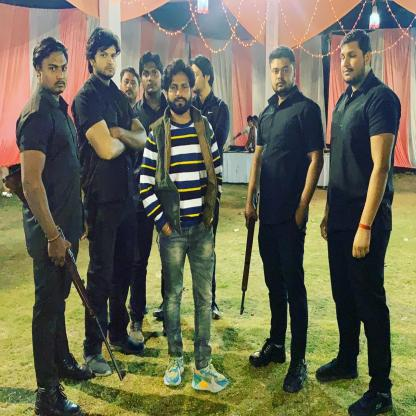rifle: (1, 166, 127, 383), (239, 191, 260, 317)
